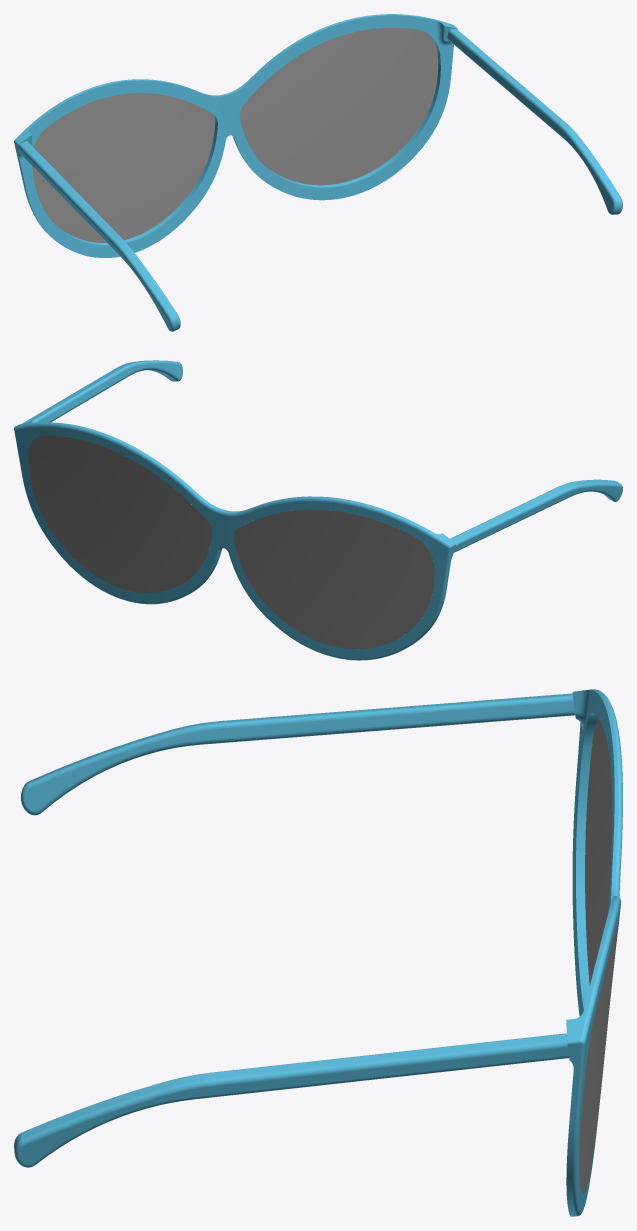
File: done9.fbx
3 views of the same model, one above another, from view 1: azimuth 30°, elevation 25°; view 2: azimuth 150°, elevation 25°; view 3: azimuth 270°, elevation 25° (orthographic). The views are drawn at different scales.
Parts seen in each view (by area): view 1: Body_5, Body_4, Body_3, Body_2, Body_1; view 2: Body_4, Body_5, Body_3, Body_1, Body_2; view 3: Body_2, Body_1, Body_3, Body_4, Body_5.
Part boxes in pixels (bbox=[...]): Body_5: bbox=[239, 27, 438, 185]; Body_4: bbox=[32, 93, 215, 242]; Body_3: bbox=[14, 14, 457, 257]; Body_2: bbox=[447, 29, 622, 214]; Body_1: bbox=[18, 141, 180, 331]; Body_4: bbox=[234, 509, 434, 649]; Body_5: bbox=[28, 435, 211, 592]; Body_3: bbox=[14, 421, 455, 660]; Body_1: bbox=[450, 479, 622, 552]; Body_2: bbox=[22, 360, 182, 423]; Body_2: bbox=[14, 1033, 569, 1167]; Body_1: bbox=[20, 693, 575, 815]; Body_3: bbox=[566, 689, 622, 1216]; Body_4: bbox=[585, 717, 612, 985]; Body_5: bbox=[579, 918, 619, 1193].
Size of the model in its own units: 15.9 by 5.82 by 10.75.
